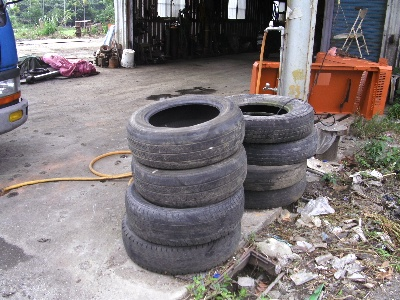box: (311, 61, 379, 122)
bucket: (119, 47, 135, 69)
plastic_bag: (42, 52, 100, 77)
tire: (125, 94, 246, 168), (122, 178, 247, 247), (119, 210, 245, 274), (130, 146, 250, 207), (222, 93, 315, 144)
